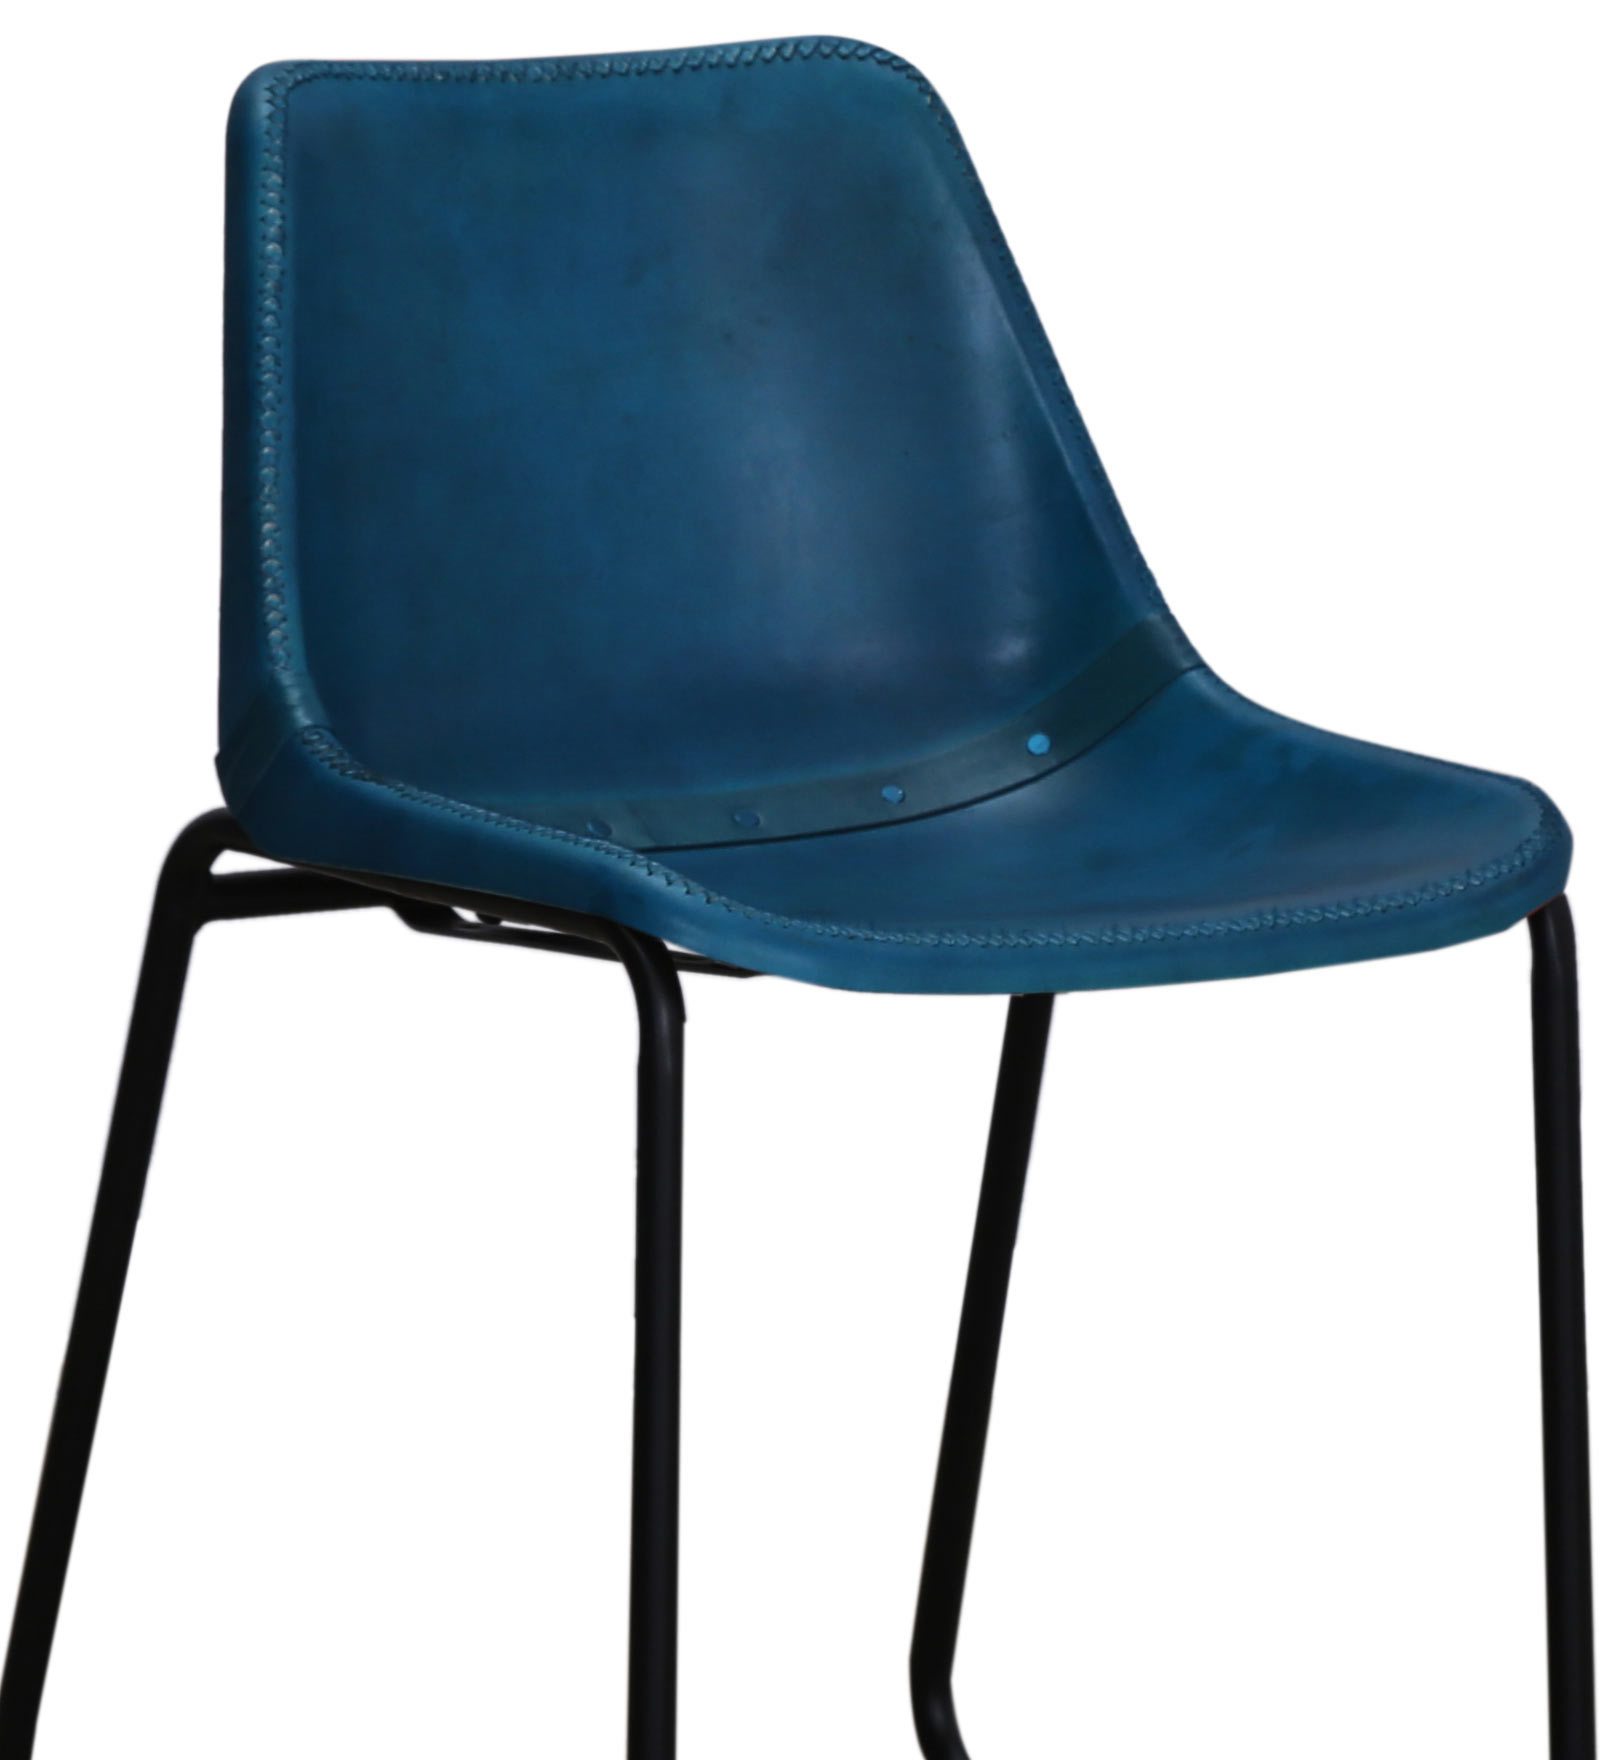Medina Ink Blue Color Leather Accent Chair by Bohemiana: (61, 40, 1582, 1760)
